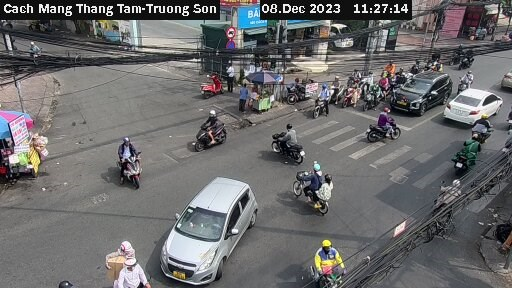car: (158, 169, 262, 283), (394, 67, 450, 123), (444, 79, 500, 126)
motorbike: (105, 147, 172, 195), (183, 114, 244, 155), (262, 122, 311, 163), (450, 138, 487, 180), (369, 110, 409, 144), (306, 258, 349, 288), (467, 120, 500, 149), (308, 91, 338, 121), (341, 83, 363, 107), (455, 72, 478, 93), (362, 87, 385, 104)
